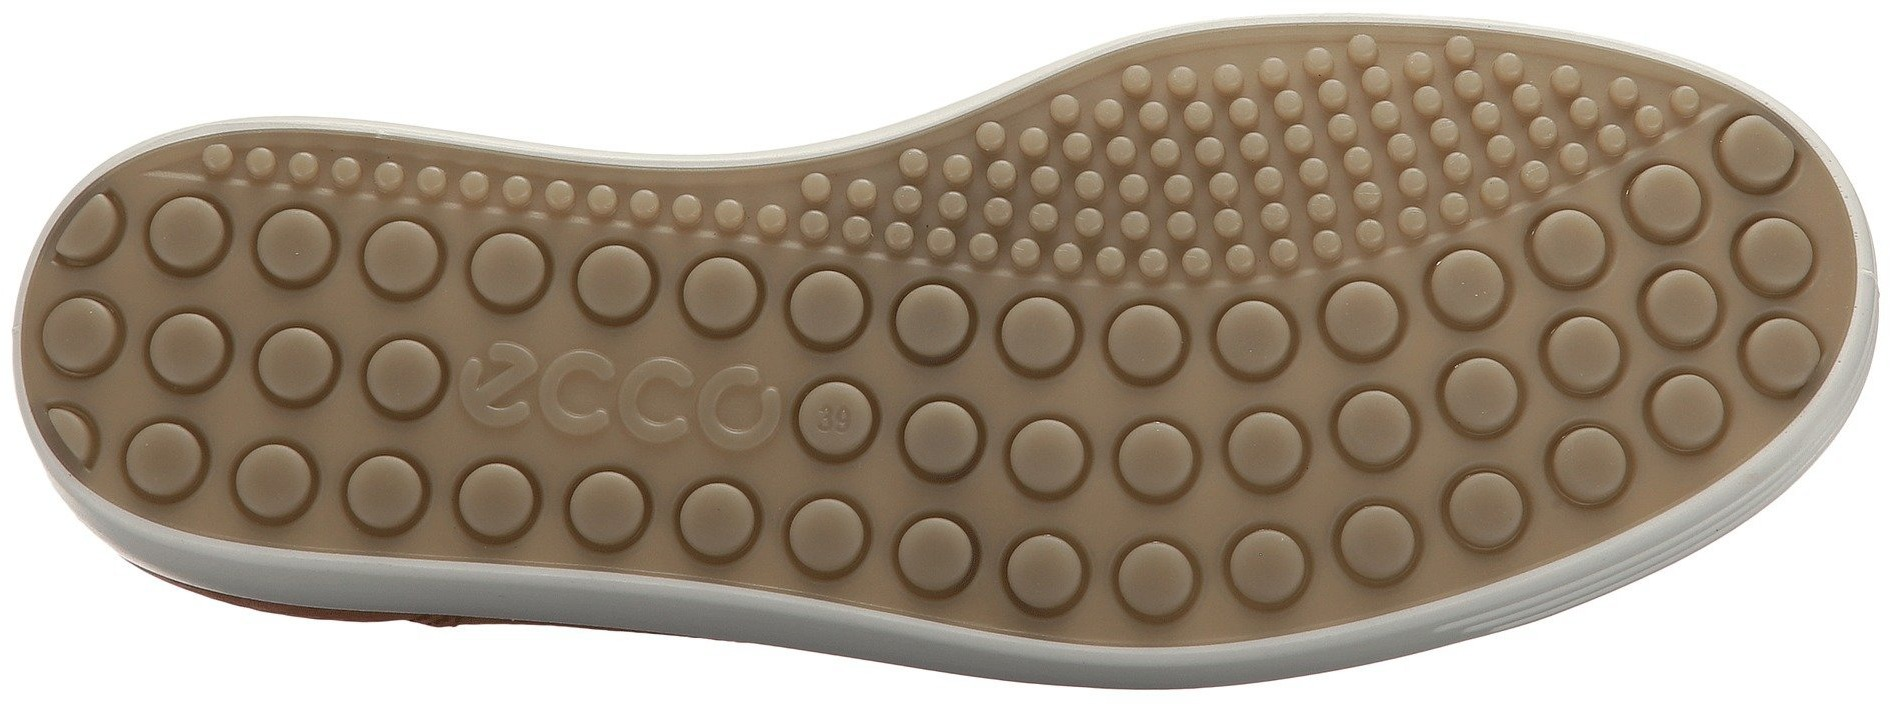circle: (86, 211, 442, 505), (1257, 319, 1530, 571), (1532, 143, 1794, 395), (1254, 72, 1522, 313), (776, 242, 1009, 498), (1019, 113, 1254, 360), (1012, 377, 1235, 612), (479, 177, 634, 319), (892, 154, 978, 248)
text: (623, 325, 767, 497), (464, 330, 612, 456)
